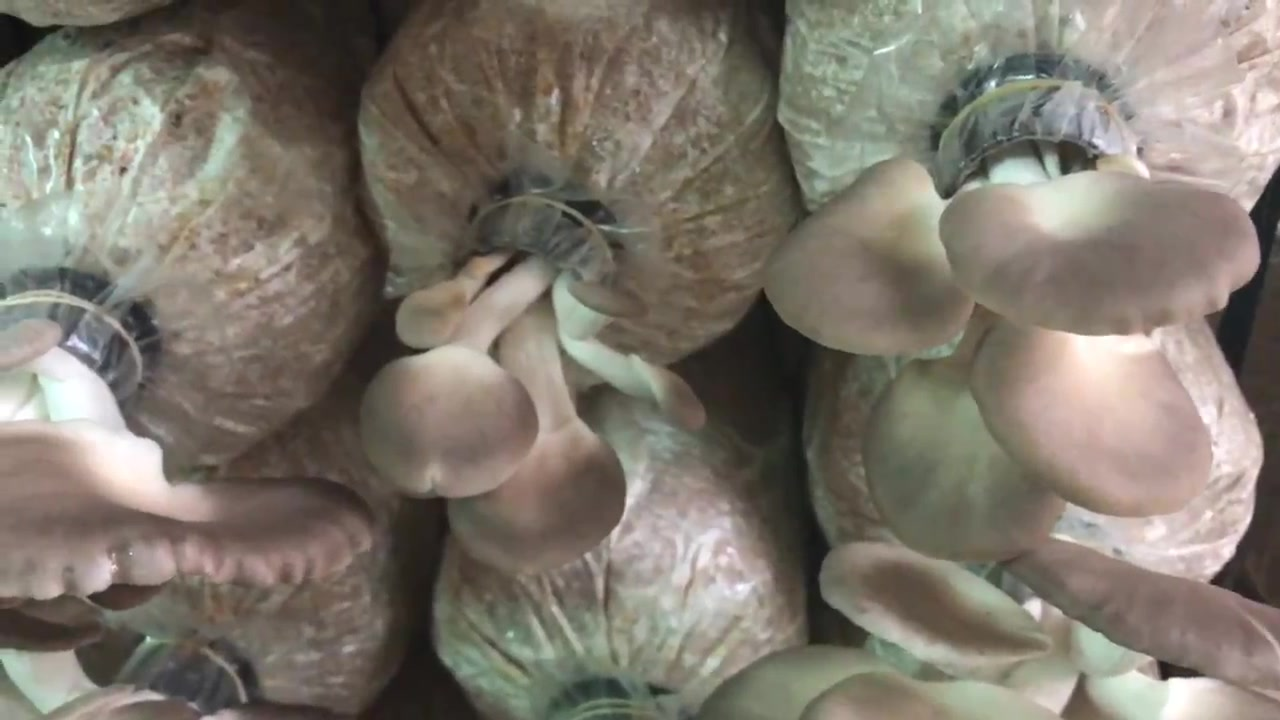nam: (764, 56, 1260, 538), (360, 180, 707, 563), (1, 281, 371, 598), (709, 539, 1280, 719)
